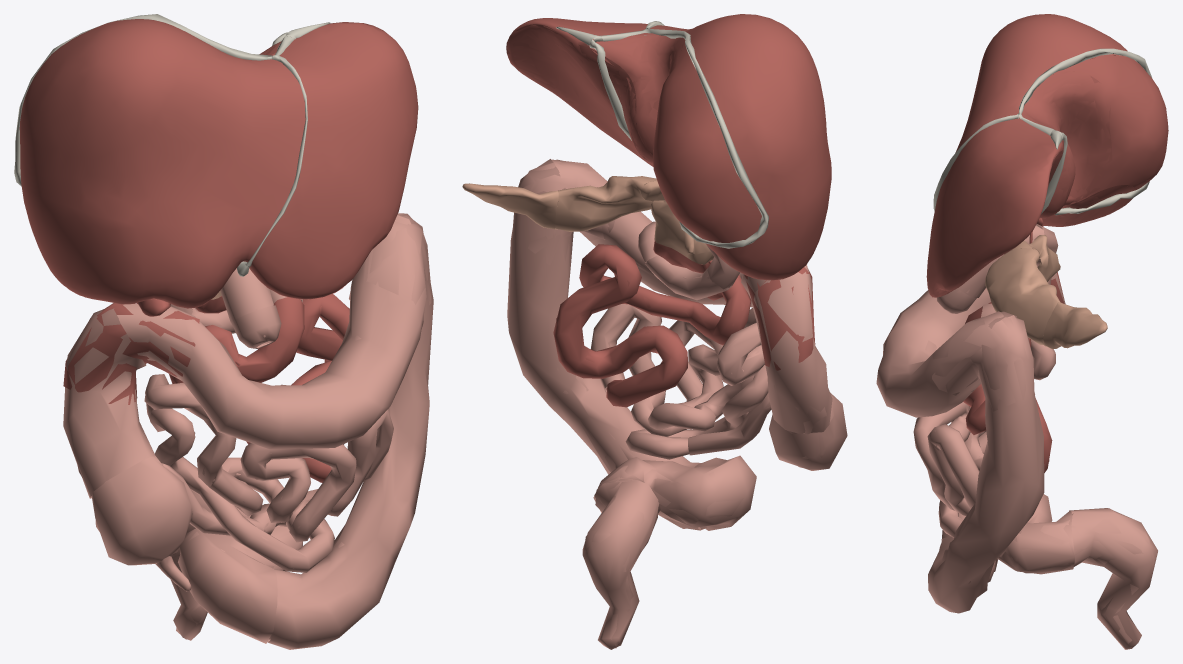
File: adult_female.digestive.LOD2.glb
The picture shows the model from 3 angles, left to right: view 1: azimuth 30°, elevation 25°; view 2: azimuth 150°, elevation 25°; view 3: azimuth 270°, elevation 25°; orthographic projection. The views are drawn at different scales.
Parts seen in each view (by area): view 1: ADULT.FEMALE.DIGESTIVE.CAPSULE_OF_THE_LIVER, ADULT.FEMALE.DIGESTIVE.TRANSVERSE_COLON, ADULT.FEMALE.DIGESTIVE.ILEUM, ADULT.FEMALE.DIGESTIVE.DESCENDING_COLON, ADULT.FEMALE.DIGESTIVE.ASCENDING_COLON, ADULT.FEMALE.DIGESTIVE.SIGMOID_COLON, ADULT.FEMALE.DIGESTIVE.CAECUM, ADULT.FEMALE.DIGESTIVE.JEJENUM, ADULT.FEMALE.DIGESTIVE.HEPATIC_FLEXURE_OF_COLON, ADULT.FEMALE.DIGESTIVE.SPLENIC_FLEXURE_OF_COLON, ADULT.FEMALE.DIGESTIVE.DUODENUM_SUPERIOR, ADULT.FEMALE.DIGESTIVE.CORONARY_LIGAMENT_OF_LIVER (+4 smaller); view 2: ADULT.FEMALE.DIGESTIVE.CAPSULE_OF_THE_LIVER, ADULT.FEMALE.DIGESTIVE.BARE_AREA_OF_LIVER, ADULT.FEMALE.DIGESTIVE.DESCENDING_COLON, ADULT.FEMALE.DIGESTIVE.JEJENUM, ADULT.FEMALE.DIGESTIVE.ILEUM, ADULT.FEMALE.DIGESTIVE.RECTUM, ADULT.FEMALE.DIGESTIVE.ASCENDING_COLON, ADULT.FEMALE.DIGESTIVE.SIGMOID_COLON, ADULT.FEMALE.DIGESTIVE.DIAPHRAGMATIC_SURFACE_OF_LIVER, ADULT.FEMALE.DIGESTIVE.BODY_OF_PANCREAS, ADULT.FEMALE.DIGESTIVE.TRANSVERSE_COLON, ADULT.FEMALE.DIGESTIVE.CAECUM (+12 smaller); view 3: ADULT.FEMALE.DIGESTIVE.CAPSULE_OF_THE_LIVER, ADULT.FEMALE.DIGESTIVE.DESCENDING_COLON, ADULT.FEMALE.DIGESTIVE.BARE_AREA_OF_LIVER, ADULT.FEMALE.DIGESTIVE.TRANSVERSE_COLON, ADULT.FEMALE.DIGESTIVE.RECTUM, ADULT.FEMALE.DIGESTIVE.ILEUM, ADULT.FEMALE.DIGESTIVE.BODY_OF_PANCREAS, ADULT.FEMALE.DIGESTIVE.SIGMOID_COLON, ADULT.FEMALE.DIGESTIVE.CAUDATE_LOBE, ADULT.FEMALE.DIGESTIVE.SPLENIC_FLEXURE_OF_COLON, ADULT.FEMALE.DIGESTIVE.TAIL_OF_PANCREAS, ADULT.FEMALE.DIGESTIVE.CORONARY_LIGAMENT_OF_LIVER (+7 smaller).
Part boxes in pixels (x1,y1,x2,y2): ADULT.FEMALE.DIGESTIVE.CAPSULE_OF_THE_LIVER: (19,19,418,308); ADULT.FEMALE.DIGESTIVE.TRANSVERSE_COLON: (117,215,426,449); ADULT.FEMALE.DIGESTIVE.ILEUM: (144,374,393,572); ADULT.FEMALE.DIGESTIVE.DESCENDING_COLON: (267,214,433,649); ADULT.FEMALE.DIGESTIVE.ASCENDING_COLON: (63,308,155,498); ADULT.FEMALE.DIGESTIVE.SIGMOID_COLON: (178,505,302,643); ADULT.FEMALE.DIGESTIVE.CAECUM: (91,456,192,565); ADULT.FEMALE.DIGESTIVE.JEJENUM: (169,294,349,482); ADULT.FEMALE.DIGESTIVE.HEPATIC_FLEXURE_OF_COLON: (63,303,199,404); ADULT.FEMALE.DIGESTIVE.SPLENIC_FLEXURE_OF_COLON: (349,213,431,328); ADULT.FEMALE.DIGESTIVE.DUODENUM_SUPERIOR: (220,268,273,322); ADULT.FEMALE.DIGESTIVE.CORONARY_LIGAMENT_OF_LIVER: (14,14,294,186); ADULT.FEMALE.DIGESTIVE.CAPSULE_OF_THE_LIVER: (506,14,831,280); ADULT.FEMALE.DIGESTIVE.BARE_AREA_OF_LIVER: (588,35,761,242); ADULT.FEMALE.DIGESTIVE.DESCENDING_COLON: (507,159,704,530); ADULT.FEMALE.DIGESTIVE.JEJENUM: (553,244,751,407); ADULT.FEMALE.DIGESTIVE.ILEUM: (591,304,768,459); ADULT.FEMALE.DIGESTIVE.RECTUM: (582,479,659,649); ADULT.FEMALE.DIGESTIVE.ASCENDING_COLON: (752,264,832,434); ADULT.FEMALE.DIGESTIVE.SIGMOID_COLON: (593,455,756,530); ADULT.FEMALE.DIGESTIVE.DIAPHRAGMATIC_SURFACE_OF_LIVER: (506,24,798,276); ADULT.FEMALE.DIGESTIVE.BODY_OF_PANCREAS: (555,176,656,231); ADULT.FEMALE.DIGESTIVE.TRANSVERSE_COLON: (551,159,807,307); ADULT.FEMALE.DIGESTIVE.CAECUM: (769,392,847,470); ADULT.FEMALE.DIGESTIVE.CAPSULE_OF_THE_LIVER: (926,14,1135,297); ADULT.FEMALE.DIGESTIVE.DESCENDING_COLON: (928,315,1044,613); ADULT.FEMALE.DIGESTIVE.BARE_AREA_OF_LIVER: (1023,55,1168,210); ADULT.FEMALE.DIGESTIVE.TRANSVERSE_COLON: (876,288,1016,417); ADULT.FEMALE.DIGESTIVE.RECTUM: (1069,508,1157,649); ADULT.FEMALE.DIGESTIVE.ILEUM: (913,339,1055,537); ADULT.FEMALE.DIGESTIVE.BODY_OF_PANCREAS: (985,248,1059,346); ADULT.FEMALE.DIGESTIVE.SIGMOID_COLON: (941,494,1074,574); ADULT.FEMALE.DIGESTIVE.CAUDATE_LOBE: (1023,71,1112,217); ADULT.FEMALE.DIGESTIVE.SPLENIC_FLEXURE_OF_COLON: (932,311,1034,415); ADULT.FEMALE.DIGESTIVE.TAIL_OF_PANCREAS: (1043,302,1107,349); ADULT.FEMALE.DIGESTIVE.CORONARY_LIGAMENT_OF_LIVER: (1019,48,1151,215).
Bounding box in the file's own units: 0.2531 × 0.4461 × 0.2011.
